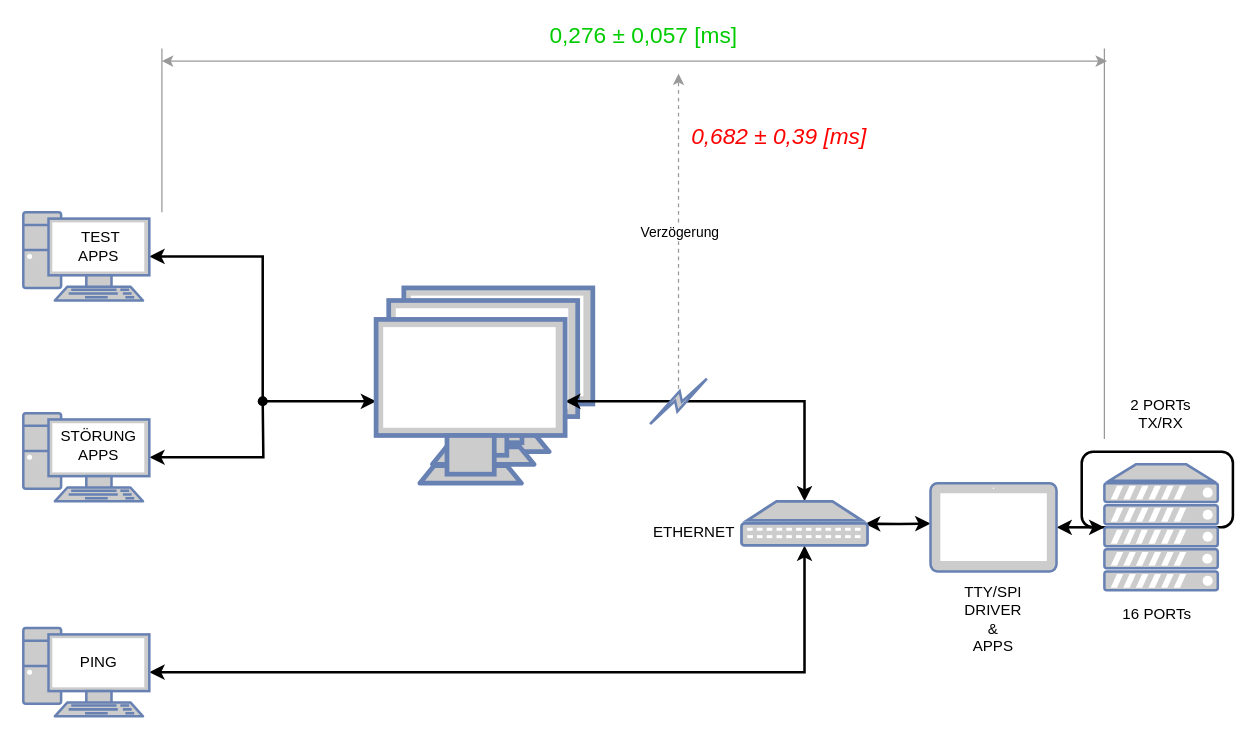
The diagram is 1255 pixels wide and 738 high, and some of its shapes have lost their labels. The shapes that lost their labels are listed below. From the top down, each one's centre as x and y in pixels, then its label:
point (470, 401): SSH TERMINAL
point (993, 526): BOARD
